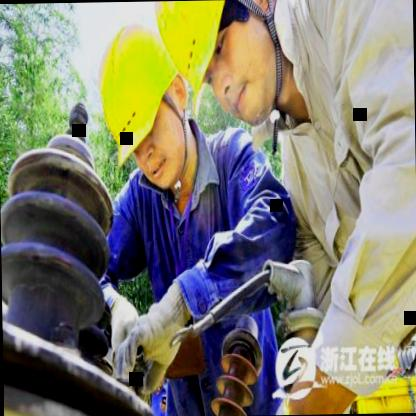helmet: (95, 7, 214, 194), (160, 0, 287, 132)
